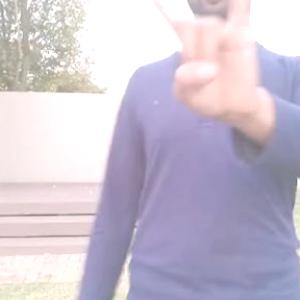takeoff-hand: (136, 0, 266, 118)
